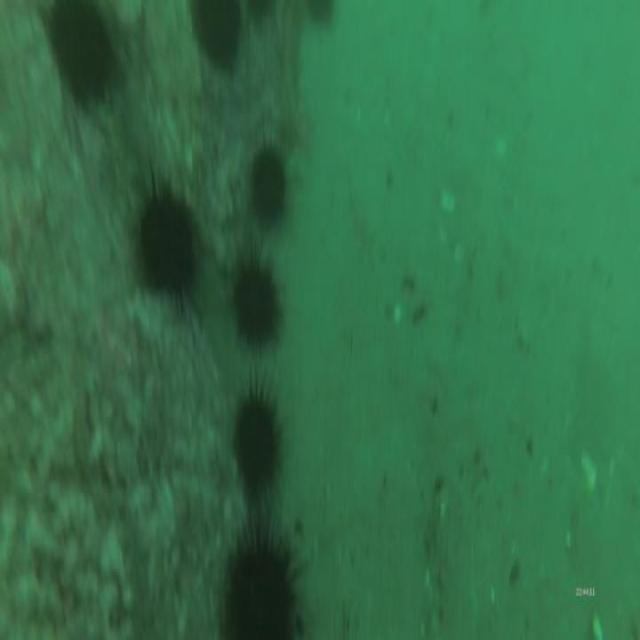echinus: (218, 515, 303, 640), (134, 169, 198, 316), (48, 0, 116, 112), (230, 381, 284, 509), (230, 254, 287, 354), (181, 0, 244, 77), (243, 141, 290, 234), (239, 0, 282, 36), (302, 0, 342, 32)
